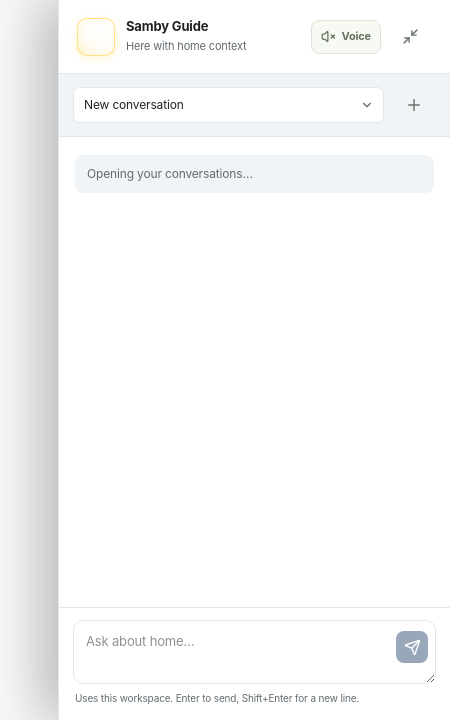
Test: voice mode persists and automatically plays a new Samby answer
Click the button with aria-label "Turn on voice mode" at (346, 36), box x1=310 y1=20 x2=381 y2=54
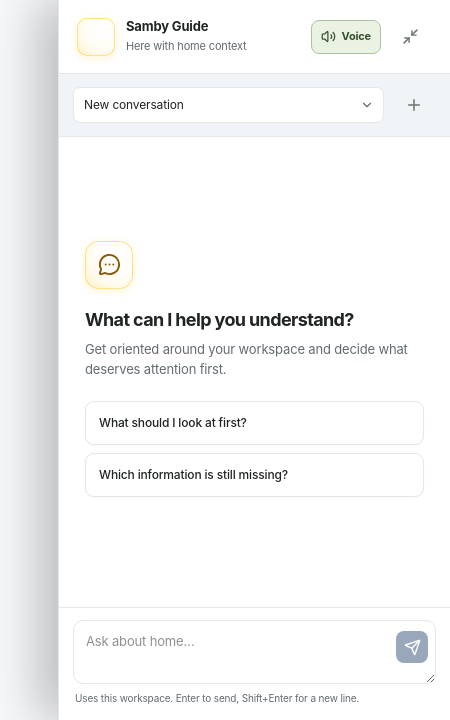
Click the button "What should I look at first?" at (173, 423), box x1=85 y1=401 x2=424 y2=445
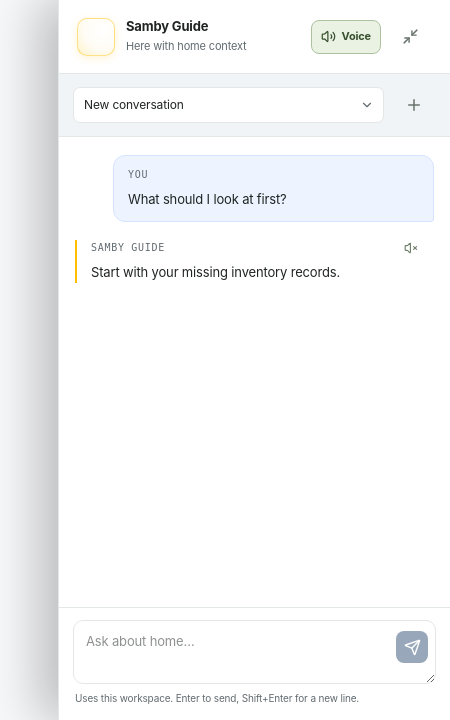
Expected: the text "Start with your missing inventory records." is shown, x1=91 y1=264 x2=340 y2=280
Expected: the button named "Stop listening to this answer" is shown, x1=398 y1=235 x2=424 y2=261
